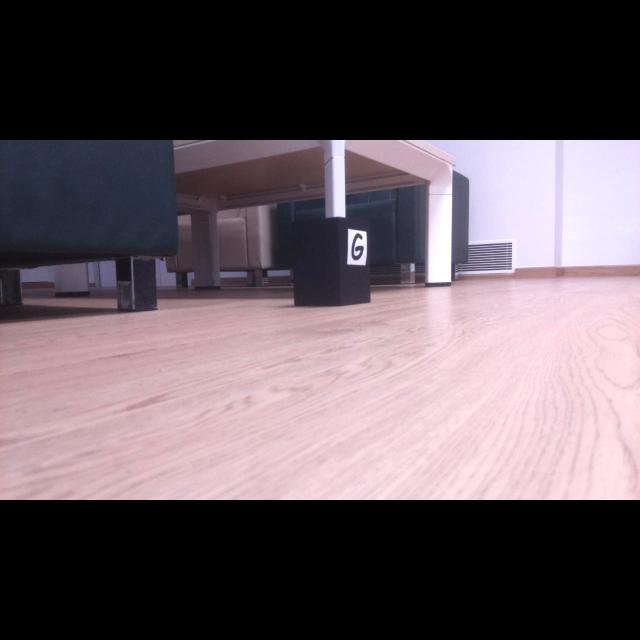G: (352, 233, 364, 260)
